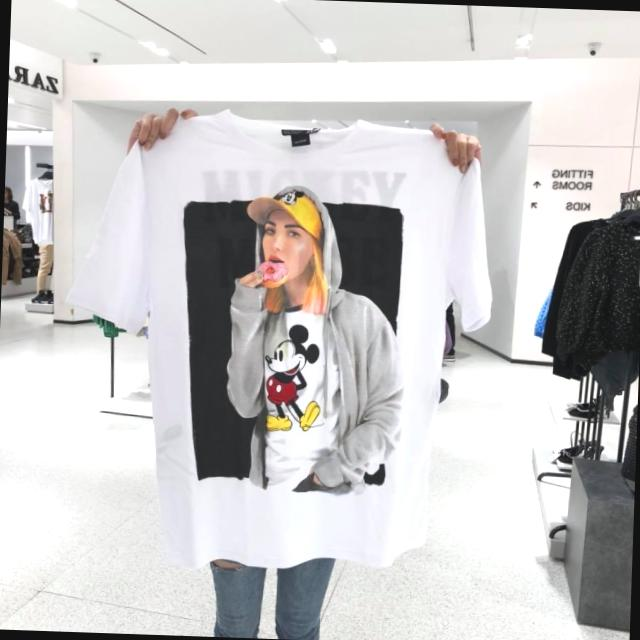Tshirt: (61, 110, 498, 580)
